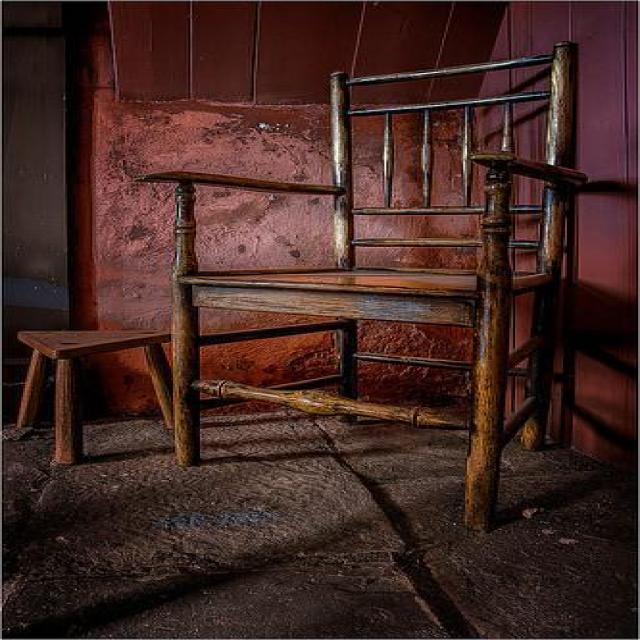chair: (127, 35, 594, 528)
